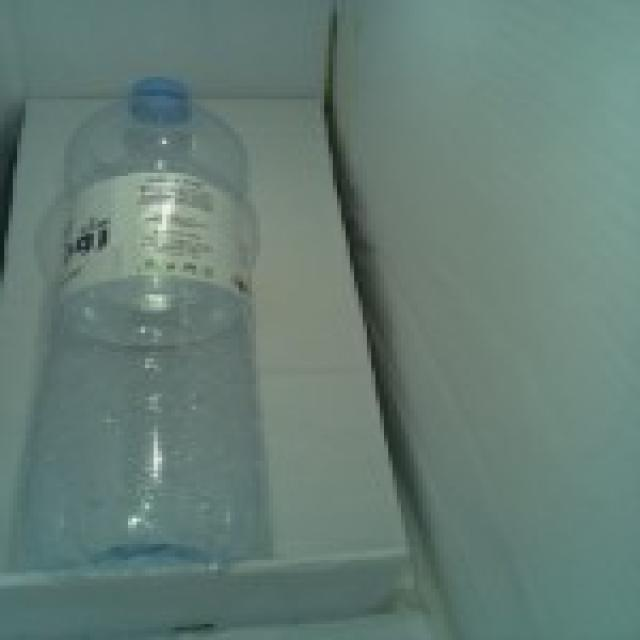good: (24, 63, 292, 594)
